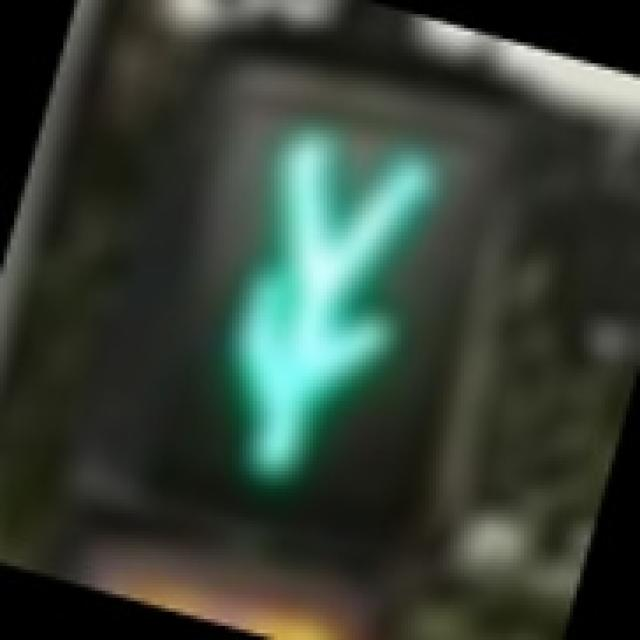green_light: (95, 60, 534, 562)
